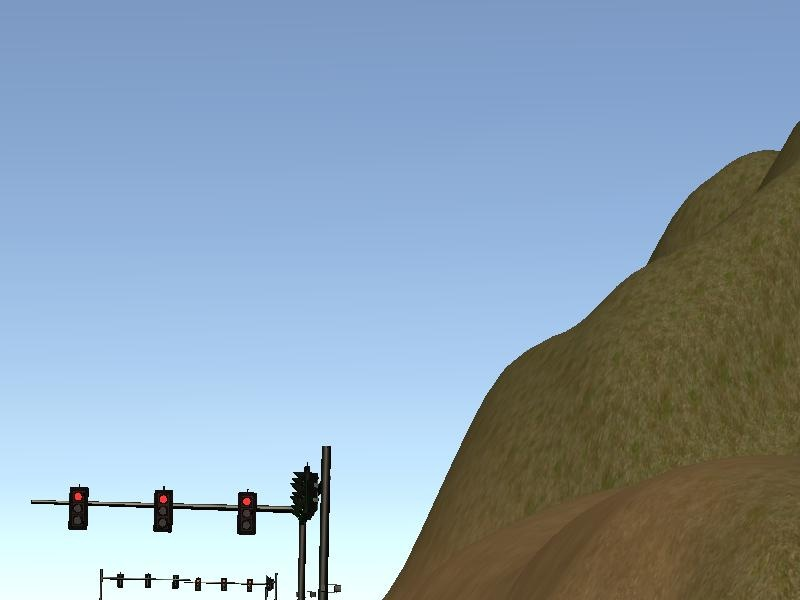red: (230, 486, 263, 543), (66, 484, 90, 531), (152, 486, 173, 534)
